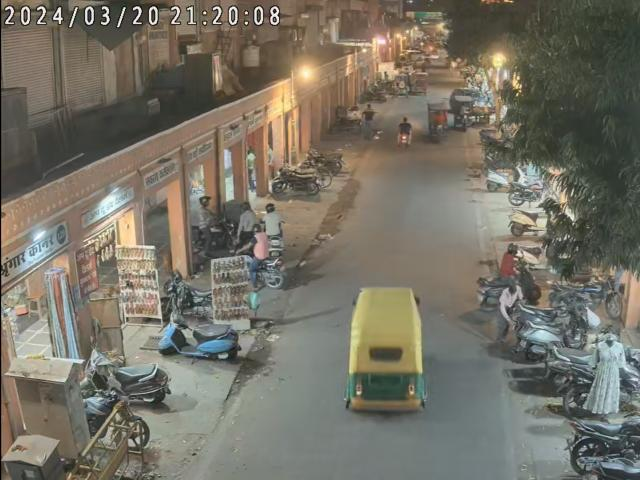auto: (343, 283, 431, 418), (426, 102, 452, 140), (451, 95, 473, 132)
motorbike: (566, 410, 640, 472), (549, 278, 625, 316), (272, 168, 326, 196), (302, 146, 340, 180)
motorbike-rider: (228, 225, 288, 288), (392, 113, 416, 153)
scooty: (78, 348, 174, 407), (523, 300, 588, 370), (157, 312, 245, 362), (506, 206, 564, 241), (488, 162, 523, 196)
scooty-rider: (260, 205, 293, 255)
